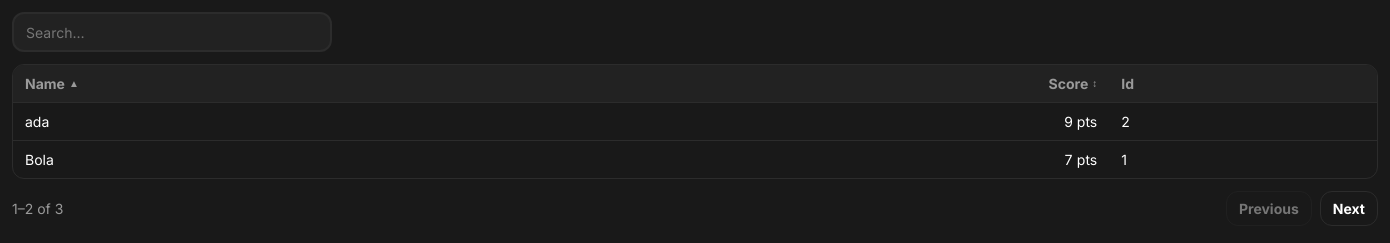
Test: DataTable › pages through long lists
The image size is (1390, 243).
Expected: the text "1–2 of 3" is shown, [12,198,63,219]
Expected: the button "Previous" is disabled, [1226,191,1312,226]
Click the button "Next" at (1349, 208), box [1320,191,1378,226]
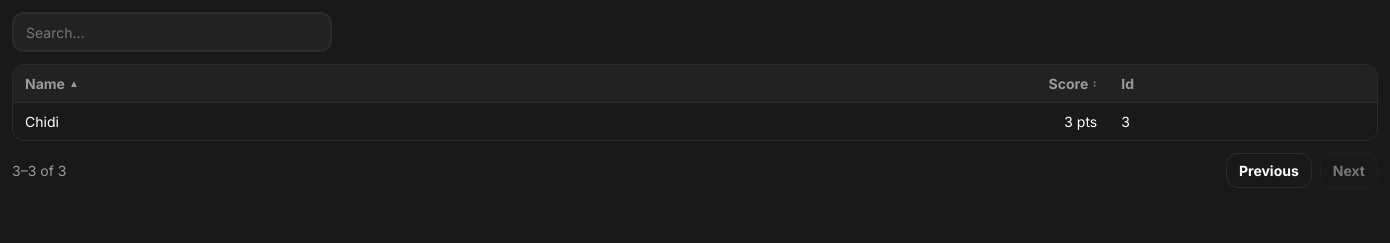
Expected: the button "Next" is disabled, [1320,153,1378,188]
